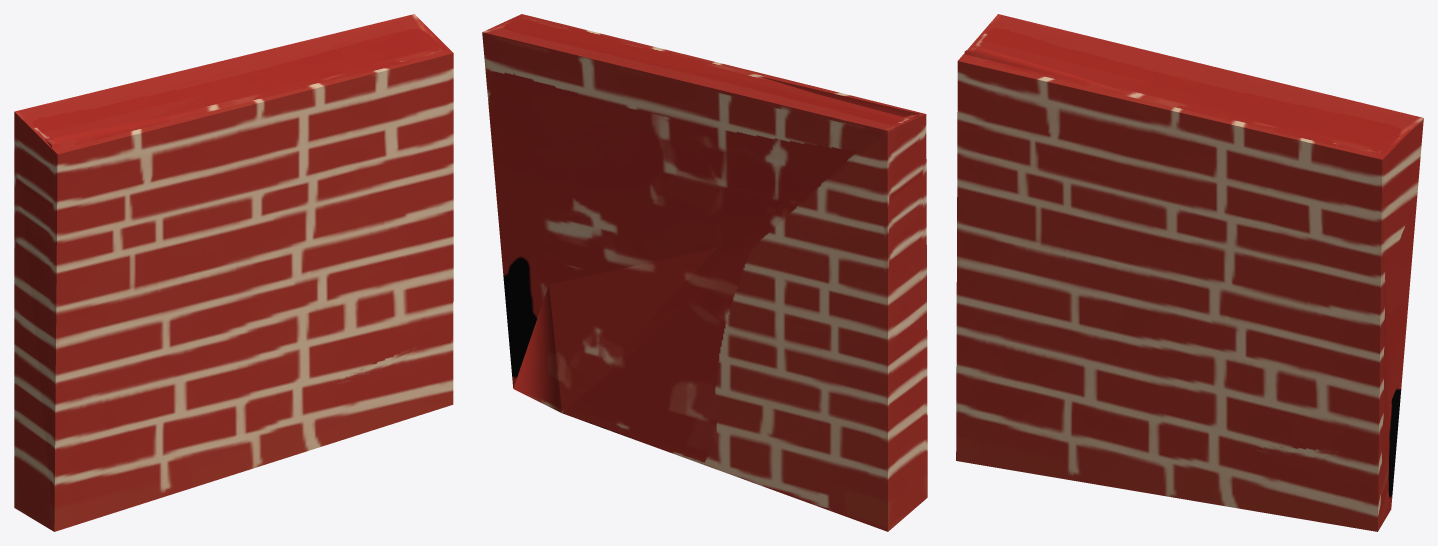
Rendered from red-brick-wall.glb.
3 renders of one model, left to right at view 1: azimuth 30°, elevation 25°; view 2: azimuth 150°, elevation 25°; view 3: azimuth 330°, elevation 25°, orthographic. The views are drawn at different scales.
Parts seen in each view (by area): view 1: geometry_0.001; view 2: geometry_0.001; view 3: geometry_0.001.
Boxes of the visible parts, x1,y1,x2,y2 form: geometry_0.001: (14,14,453,531); geometry_0.001: (482,14,927,531); geometry_0.001: (956,14,1423,531).
Size of the model in its own units: 0.9965 by 0.9416 by 0.1768.
Materials: 1 (1 with a texture image).
